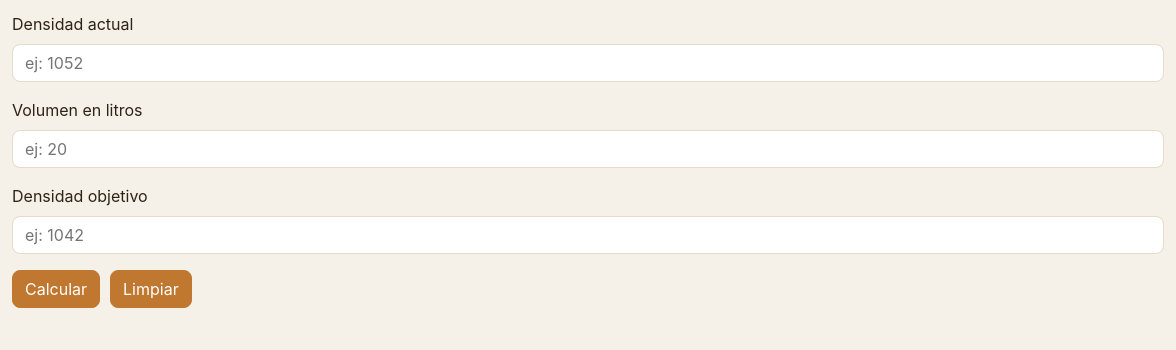
it: WaterDilution › muestra error si la densidad actual está vacía
Step 1. Click the button "Calcular" → [56, 289], box [12,270,100,308]
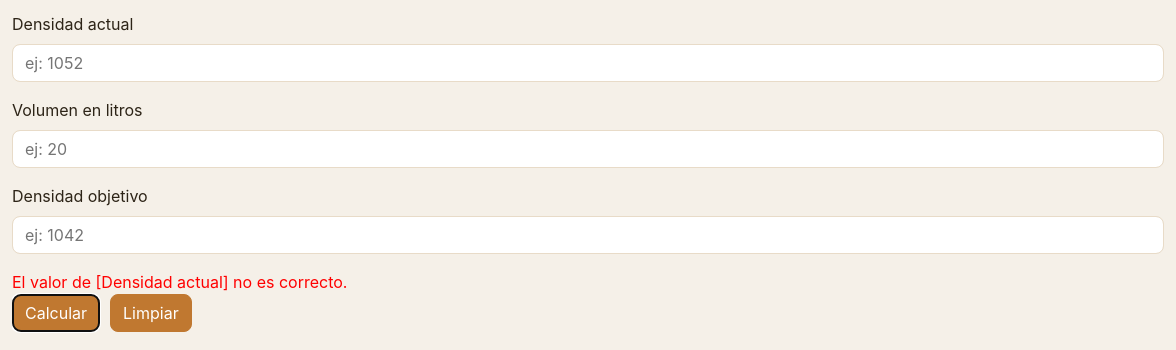
Now the message shows "Densidad actual", box [12,272,347,292]
